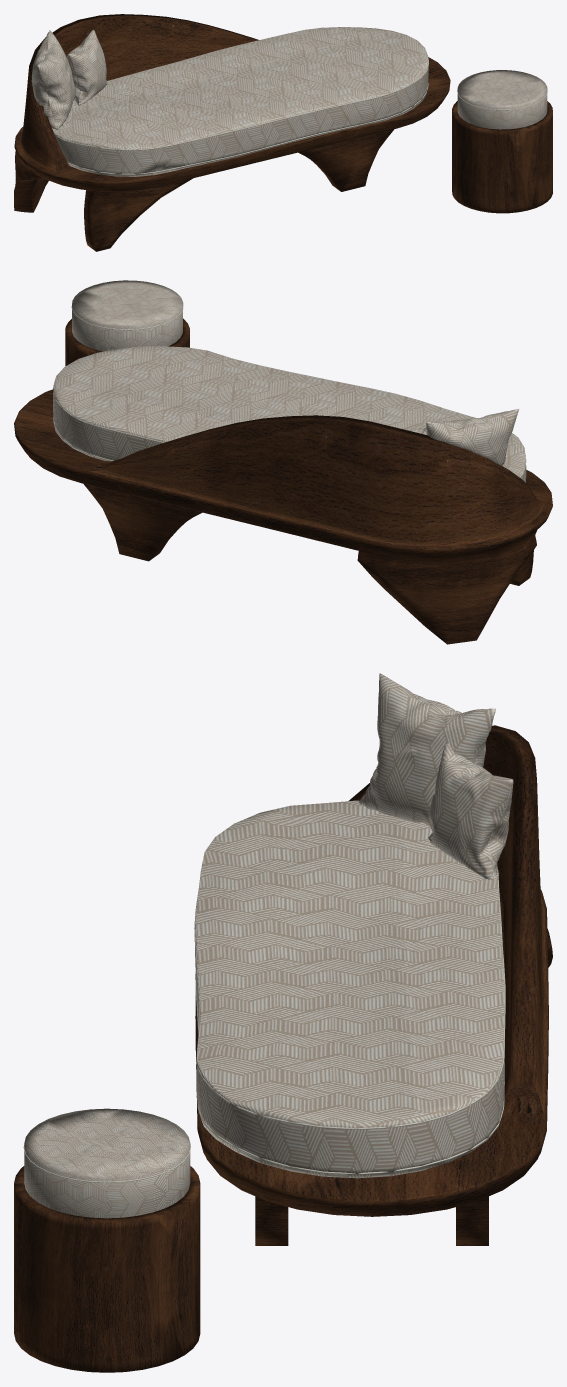
The model's file is 1fa0bc00-505a-40cb-bcc4-19f237e041d4.glb.
3 views of the same model, one above another, from view 1: azimuth 30°, elevation 25°; view 2: azimuth 150°, elevation 25°; view 3: azimuth 270°, elevation 25° (orthographic). The views are drawn at different scales.
Visible parts, largest first — view 1: pillow, back, leg_1, pillow_1, Sofa Mattress strip; view 2: back, pillow, leg_1, Sofa Mattress strip; view 3: pillow, back, pillow_1, leg_1, Sofa Mattress strip.
Boxes of the visible parts, box(x1,y1,x2,y2) form: pillow: box(31, 27, 547, 176); back: box(14, 14, 552, 213); leg_1: box(84, 129, 393, 251); pillow_1: box(67, 29, 107, 105); Sofa Mattress strip: box(55, 59, 547, 174); back: box(14, 318, 552, 644); pillow: box(53, 280, 526, 482); leg_1: box(84, 484, 533, 585); Sofa Mattress strip: box(53, 303, 526, 477); pillow: box(24, 673, 504, 1218); back: box(14, 725, 552, 1372); pillow_1: box(428, 742, 513, 879); leg_1: box(255, 1196, 488, 1245); Sofa Mattress strip: box(23, 869, 505, 1182).
Bounding box in the file's own units: 3.1 × 1.12 × 1.76.
2 materials, 2 textured.
